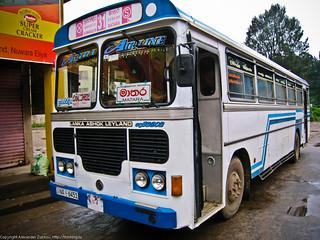bus: (44, 0, 317, 236)
